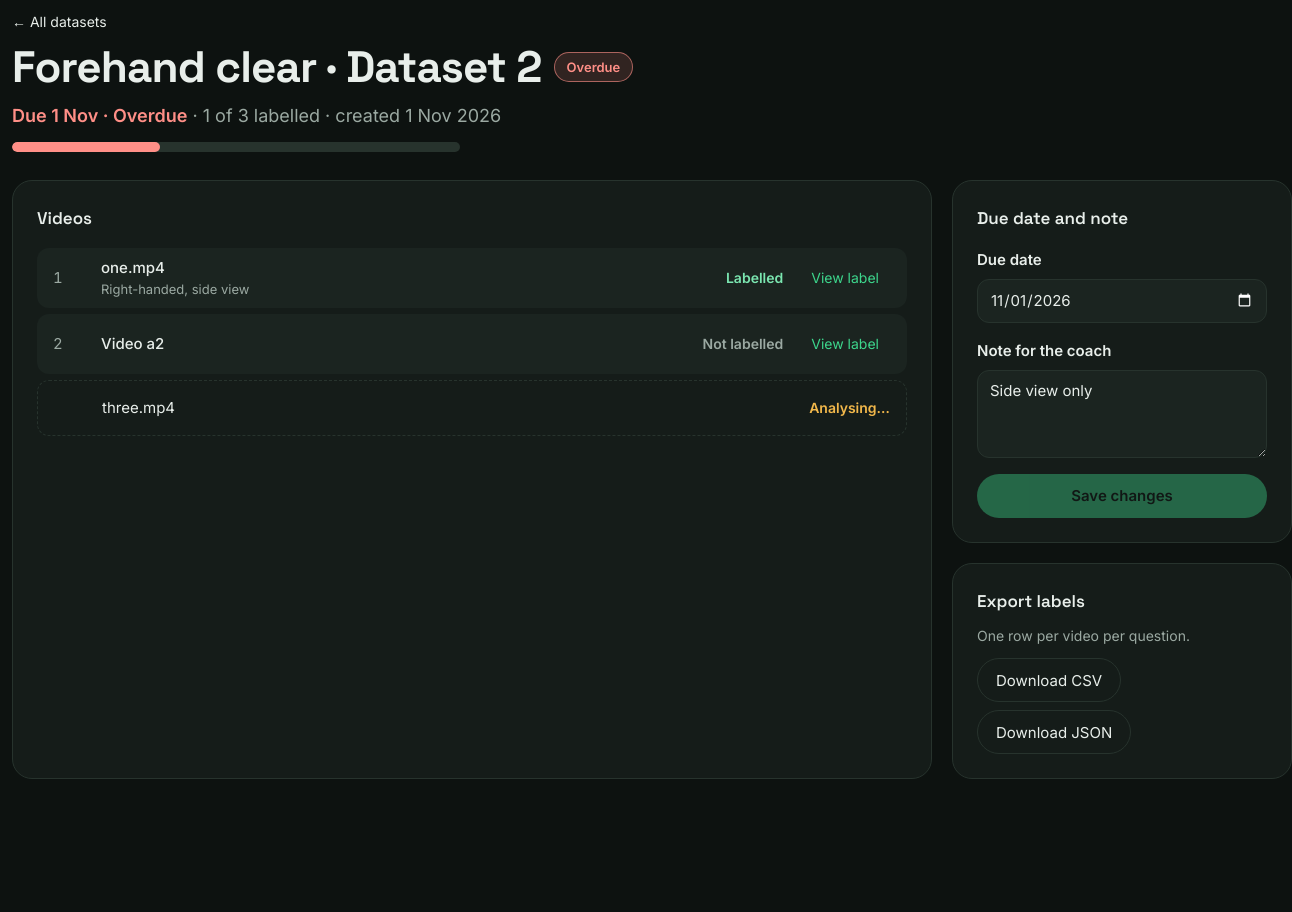
Test: AdminDataset › only changes the note when the due date is untouched
This screenshot has width=1292, height=912.
Clear the text box labelled "Note for the coach" at (1122, 414), box [977, 370, 1267, 458]
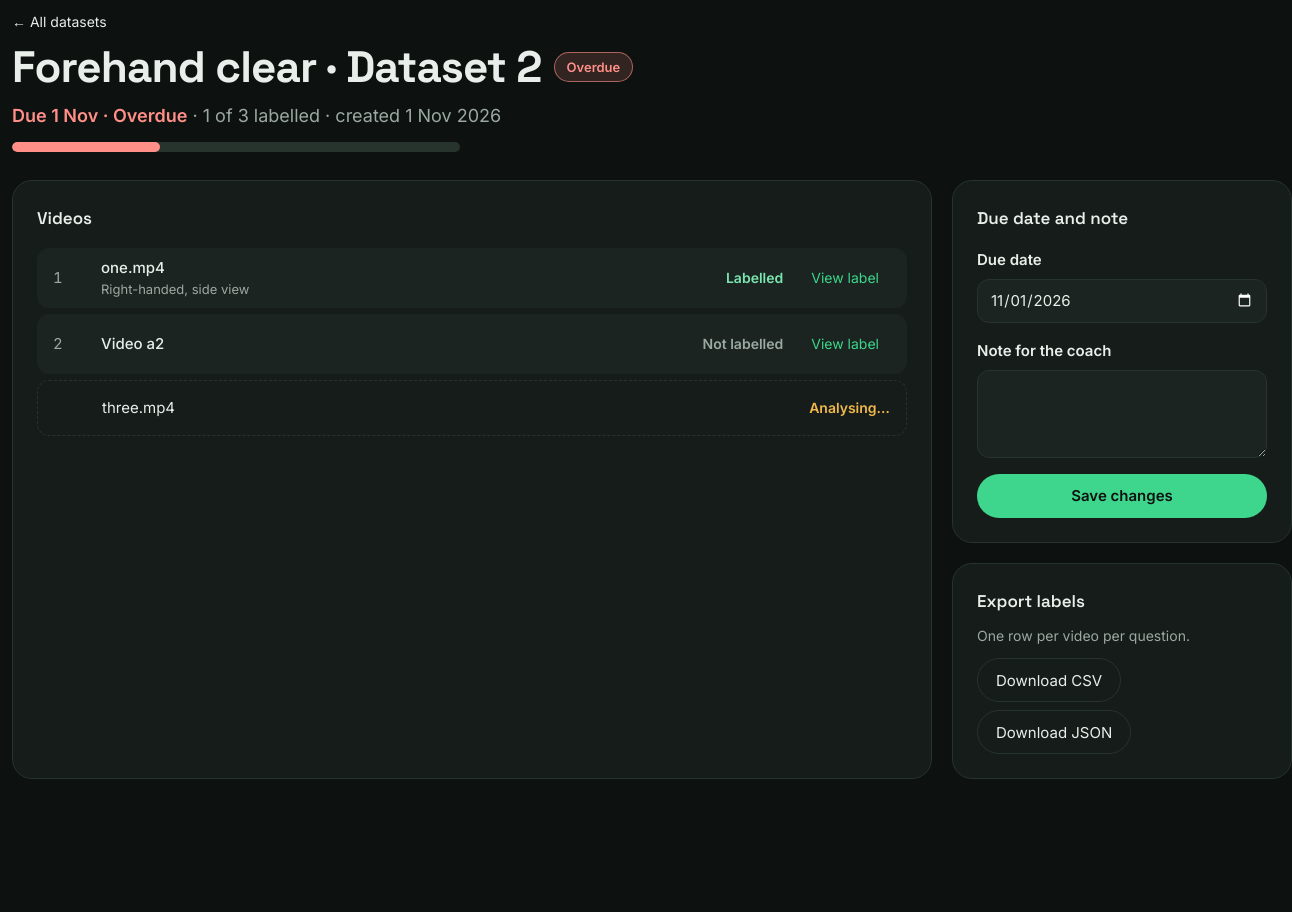
Click the button "Save changes".
click(1122, 496)  # box [977, 474, 1267, 518]
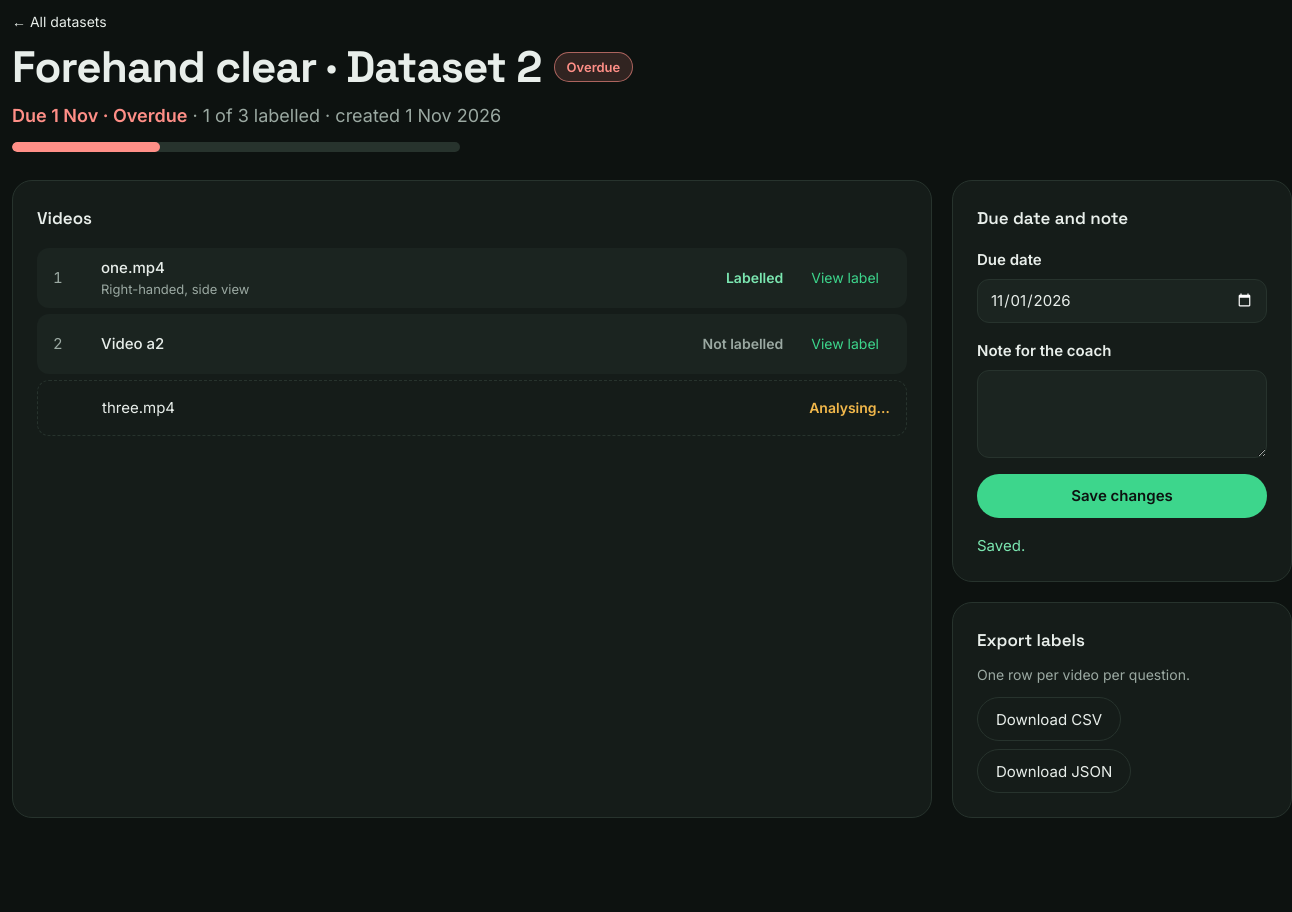
Expected: the text "Saved." is shown, [977, 536, 1025, 555]
